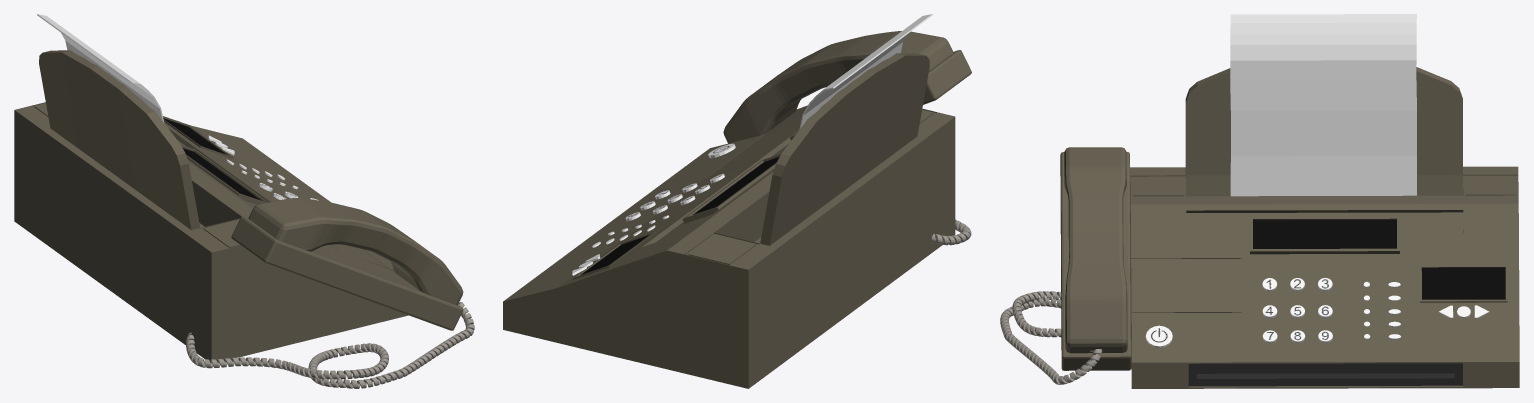
Rendered from Fax.fbx.
The picture shows the model from 3 angles, left to right: view 1: azimuth 30°, elevation 25°; view 2: azimuth 150°, elevation 25°; view 3: azimuth 270°, elevation 25°; orthographic projection. The views are drawn at different scales.
Parts seen in each view (by area): view 1: Fax; view 2: Fax; view 3: Fax.
Part boxes in pixels (x1,y1,x2,y2): Fax: (14, 14, 474, 388); Fax: (503, 14, 971, 388); Fax: (1000, 14, 1519, 388).
Size of the model in its own units: 45.34 by 42.57 by 78.69.
